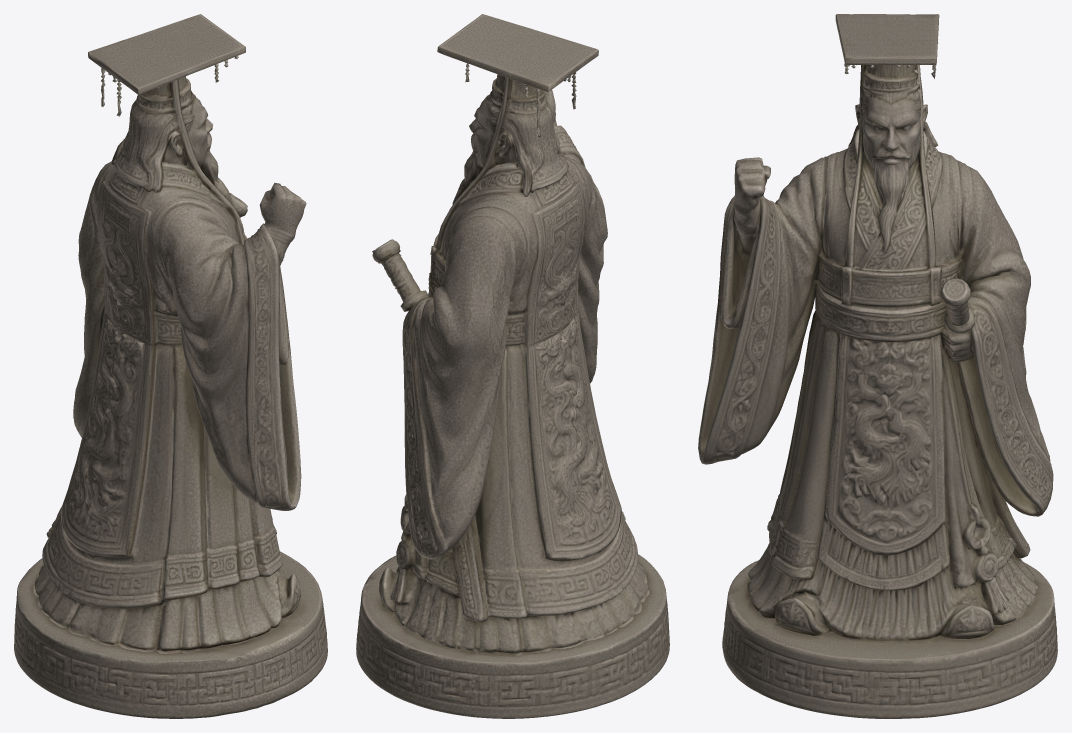
File: chinese_scholar_statue_3d_model.fbx
3 views of the same model, side by side, from view 1: azimuth 30°, elevation 25°; view 2: azimuth 150°, elevation 25°; view 3: azimuth 270°, elevation 25° (orthographic). The views are drawn at different scales.
Visible parts, largest first — view 1: tripo_node_61de100f; view 2: tripo_node_61de100f; view 3: tripo_node_61de100f.
Part boxes in pixels (x1=…): tripo_node_61de100f: x1=14, y1=14, x2=327, y2=718; tripo_node_61de100f: x1=356, y1=14, x2=669, y2=718; tripo_node_61de100f: x1=698, y1=14, x2=1057, y2=718.
Size of the model in its own units: 0.4496 by 0.9796 by 0.511.
